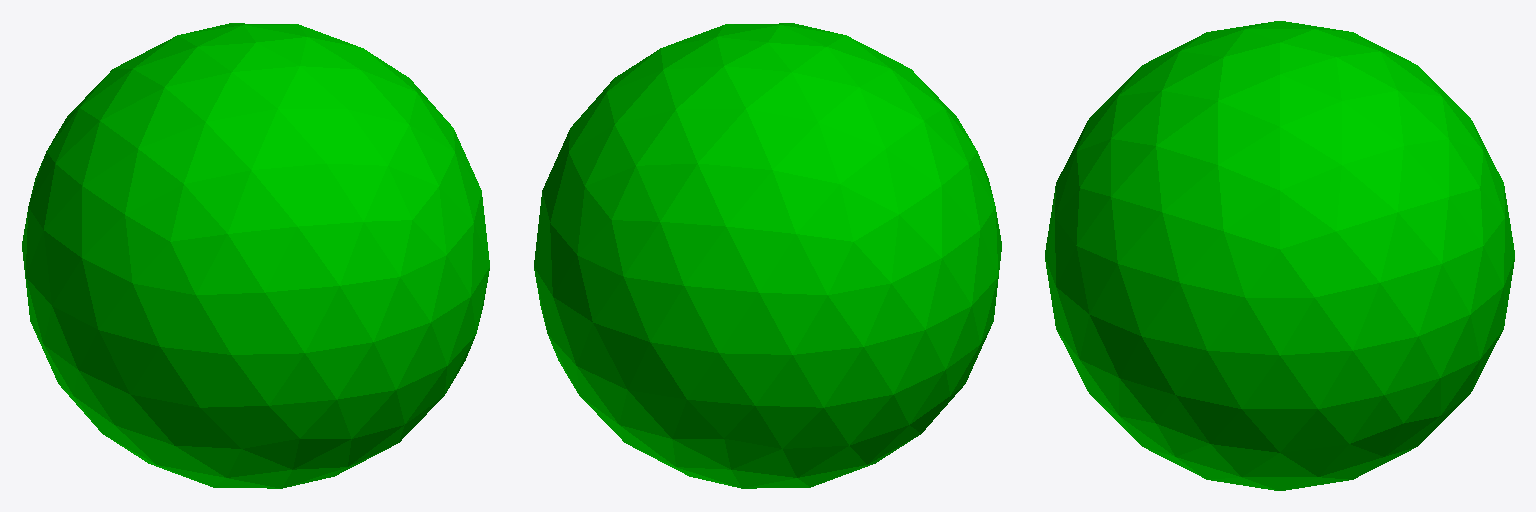
The model's file is bol.obj.
3 views of the same model, side by side, from view 1: azimuth 30°, elevation 25°; view 2: azimuth 150°, elevation 25°; view 3: azimuth 270°, elevation 25° (orthographic).
Visible parts, largest first — view 1: Icosphere; view 2: Icosphere; view 3: Icosphere.
Boxes of the visible parts, x1=… form: Icosphere: x1=22, y1=23, x2=489, y2=488; Icosphere: x1=534, y1=23, x2=1001, y2=488; Icosphere: x1=1045, y1=21, x2=1514, y2=490.
Bounding box in the file's own units: 2 × 2 × 2.